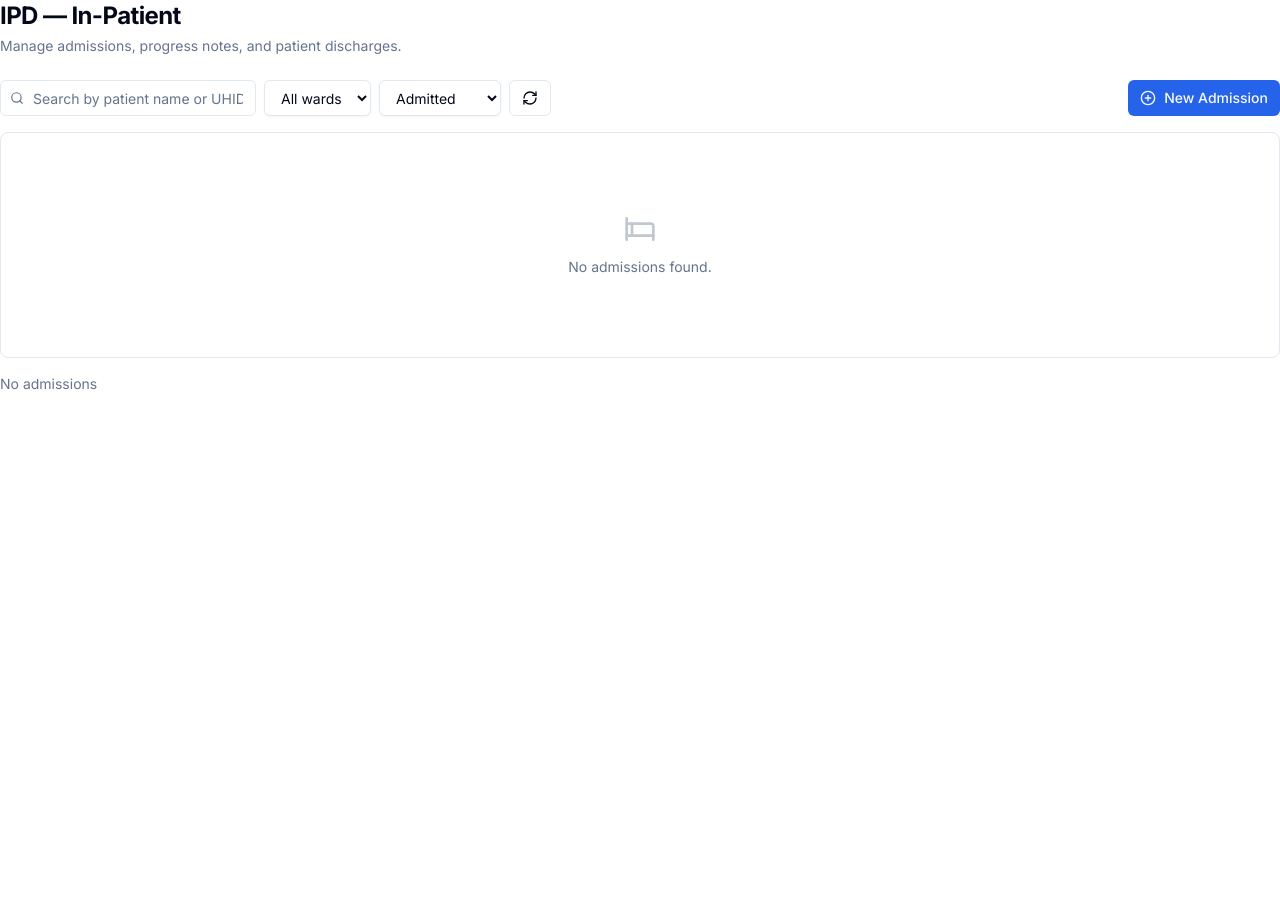
Test: IPDPage — New Admission Add Patient flow › shows an Add Patient button next to the patient search field
Click the button "New Admission": (1204,98) [1128,80,1279,116]
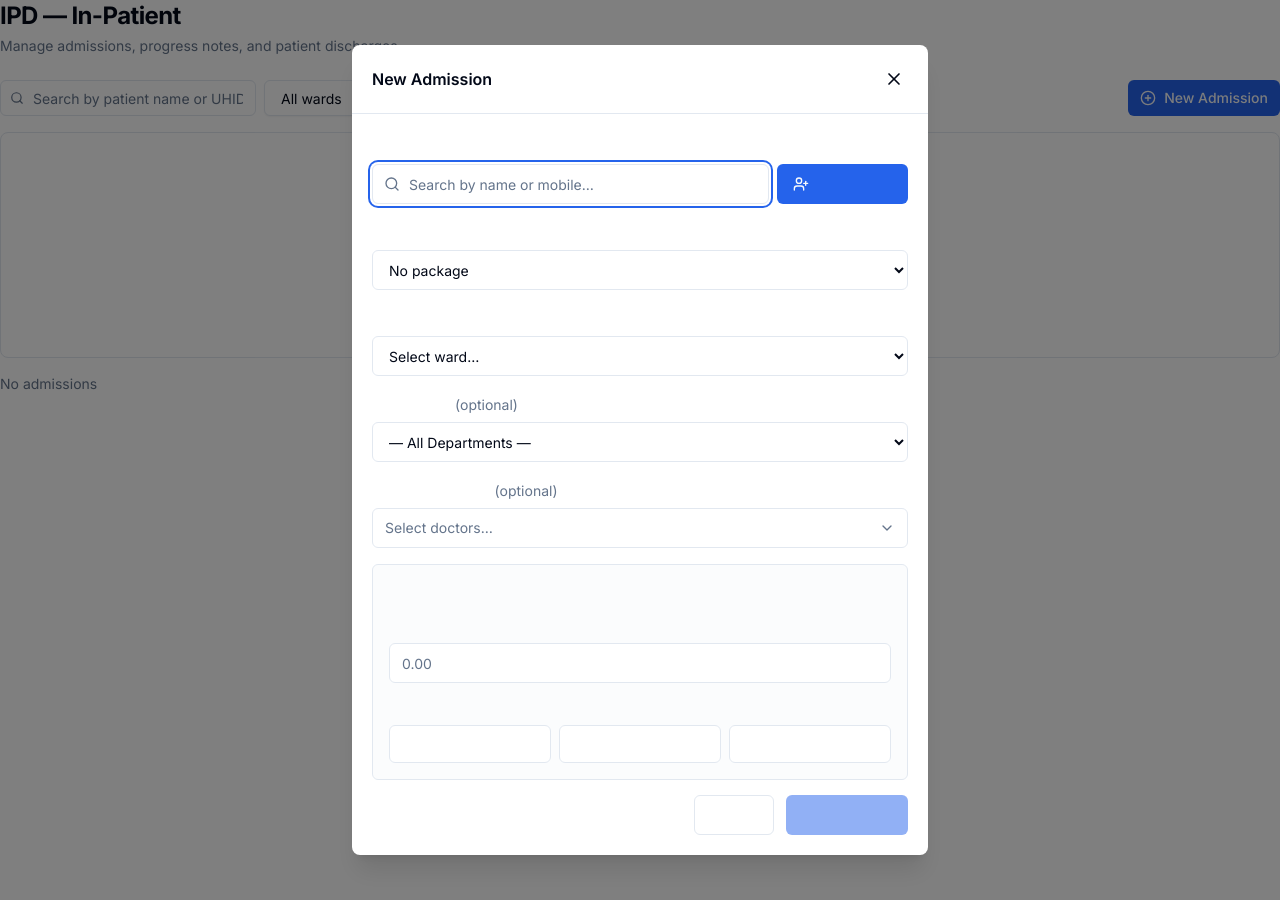
Now the button "Add Patient" is shown, box [777,164,908,204]
